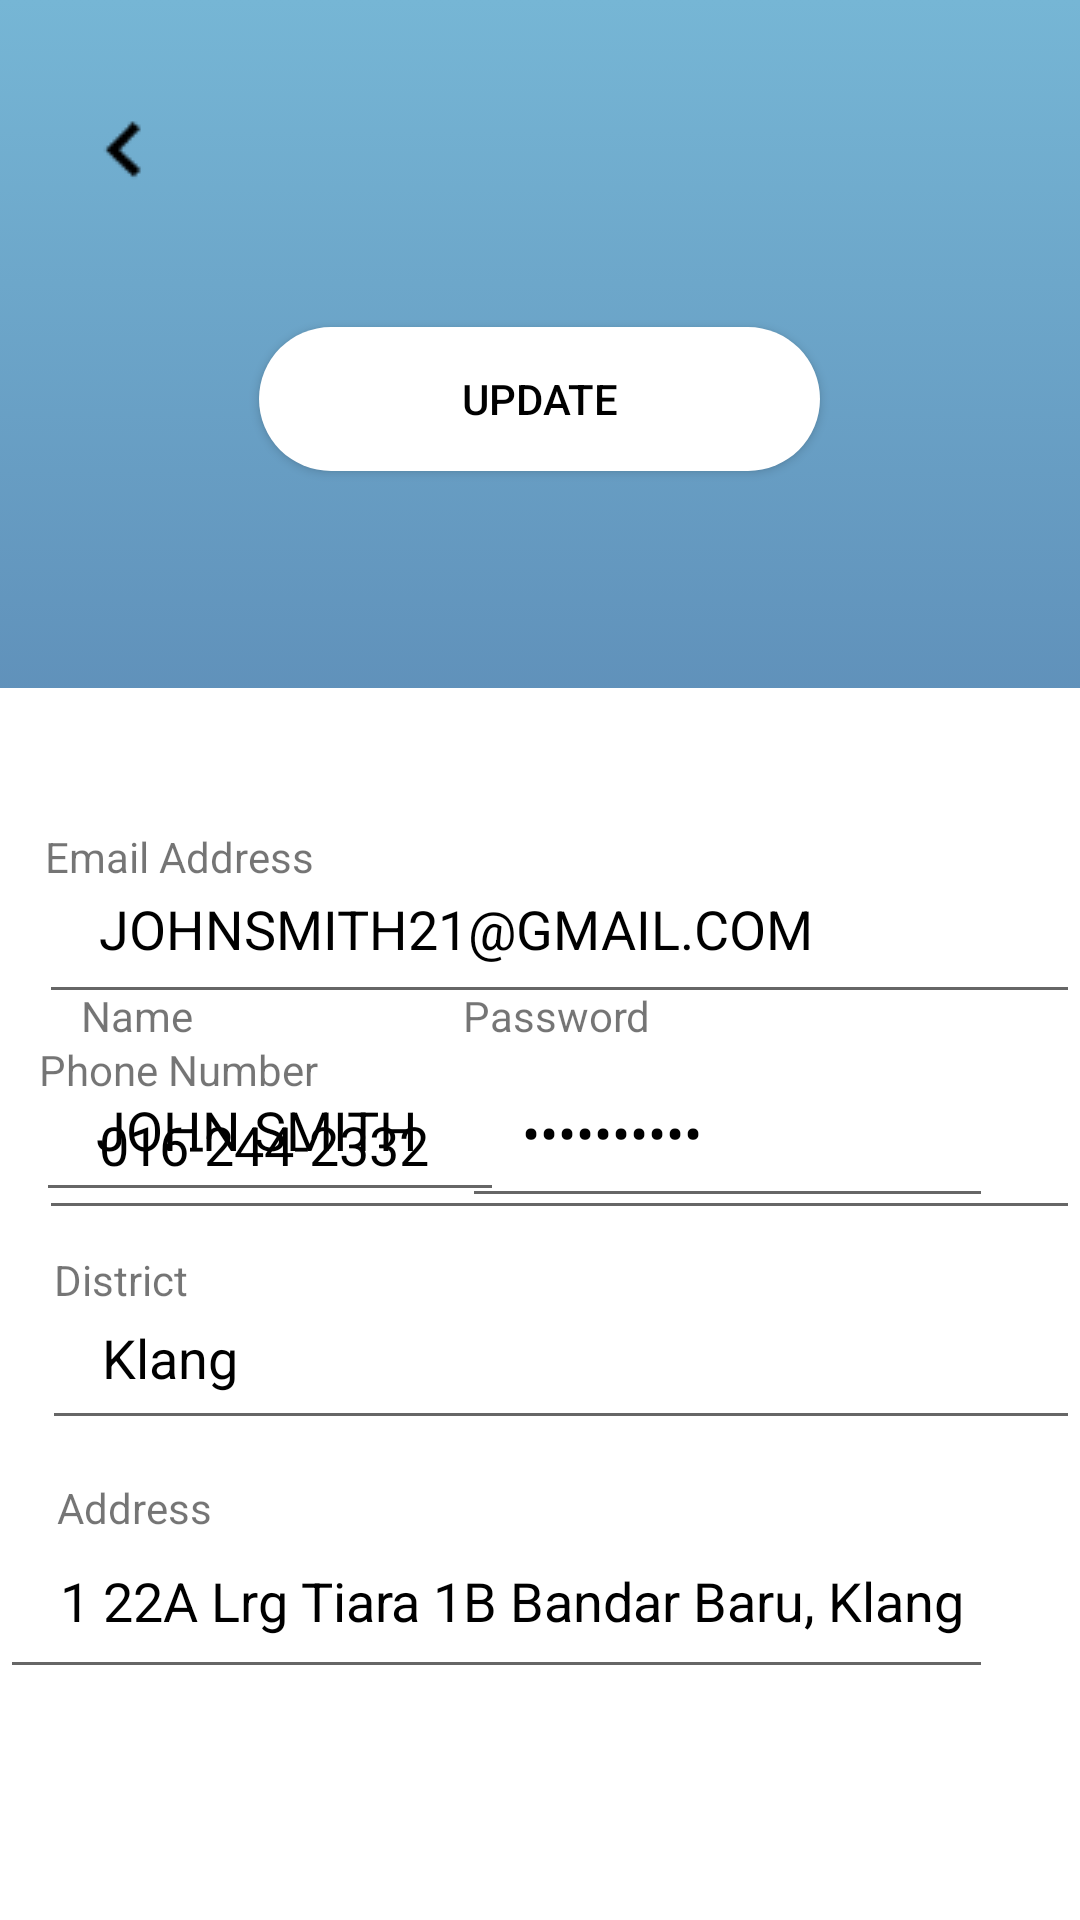

Screen size 1080px x 1920px. Icon name, then its box in pixels as (x1, y1, x2, y2):
go back to previous: (105, 121, 141, 177)
